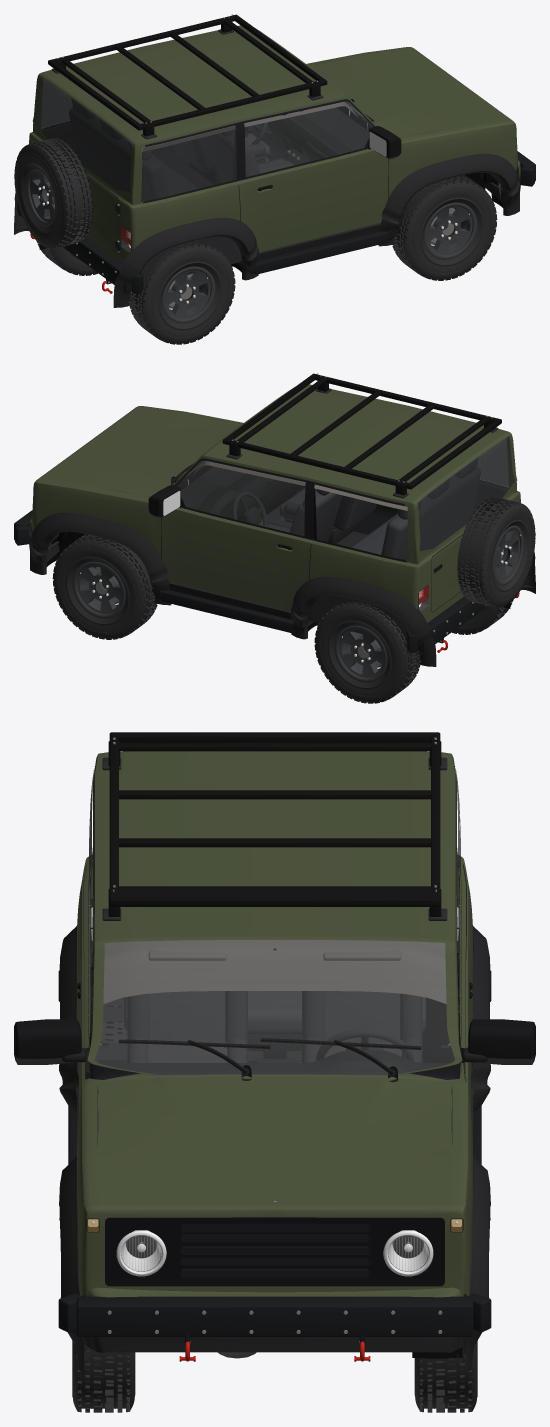
File: trail_studio.glb
3 renders of one model, top to bottom at view 1: azimuth 30°, elevation 25°; view 2: azimuth 150°, elevation 25°; view 3: azimuth 270°, elevation 25°, orthographic. The views are drawn at different scales.
Visible parts, largest first — view 1: body, hood, wheel_fr, wheel_rr, spare_0, wheel_rl, bay; view 2: body, hood, wheel_fl, wheel_rl, spare_0, wheel_rr, bay; view 3: body, hood, wheel_fr, wheel_fl, lamp_head.
Boxes of the visible parts, x1=… form: body: x1=14, y1=14, x2=535, y2=307; hood: x1=309, y1=49, x2=509, y2=137; wheel_fr: x1=392, y1=175, x2=497, y2=280; wheel_rr: x1=129, y1=242, x2=235, y2=344; spare_0: x1=14, y1=138, x2=92, y2=248; wheel_rl: x1=36, y1=241, x2=97, y2=275; bay: x1=336, y1=84, x2=500, y2=198; body: x1=14, y1=373, x2=535, y2=666; hood: x1=40, y1=408, x2=240, y2=496; wheel_fl: x1=52, y1=534, x2=157, y2=639; wheel_rl: x1=314, y1=601, x2=420, y2=703; spare_0: x1=457, y1=497, x2=535, y2=607; wheel_rr: x1=452, y1=599, x2=513, y2=634; bay: x1=49, y1=443, x2=212, y2=557; body: x1=14, y1=732, x2=535, y2=1374; hood: x1=98, y1=1081, x2=451, y2=1207; wheel_fr: x1=72, y1=1341, x2=135, y2=1412; wheel_fl: x1=414, y1=1341, x2=477, y2=1412; lamp_head: x1=121, y1=1236, x2=428, y2=1271.
Bounding box in the file's own units: 3.99 × 1.9 × 2.21.
